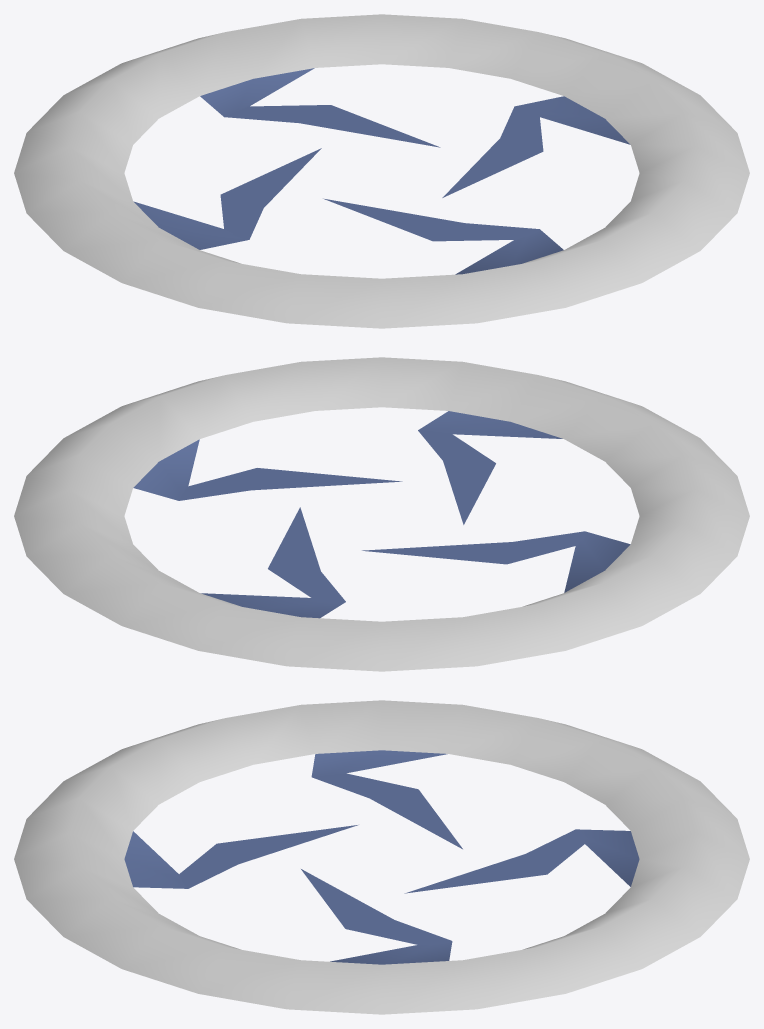
File: spinner.fbx
3 renders of one model, top to bottom at view 1: azimuth 30°, elevation 25°; view 2: azimuth 150°, elevation 25°; view 3: azimuth 270°, elevation 25°, orthographic.
Parts seen in each view (by area): view 1: circ; view 2: circ; view 3: circ.
Boxes of the visible parts, bbox=[...] form: circ: bbox=[14, 14, 749, 328]; circ: bbox=[14, 357, 749, 671]; circ: bbox=[14, 700, 749, 1014].
Size of the model in its own units: 2 by 0.0799 by 2.
